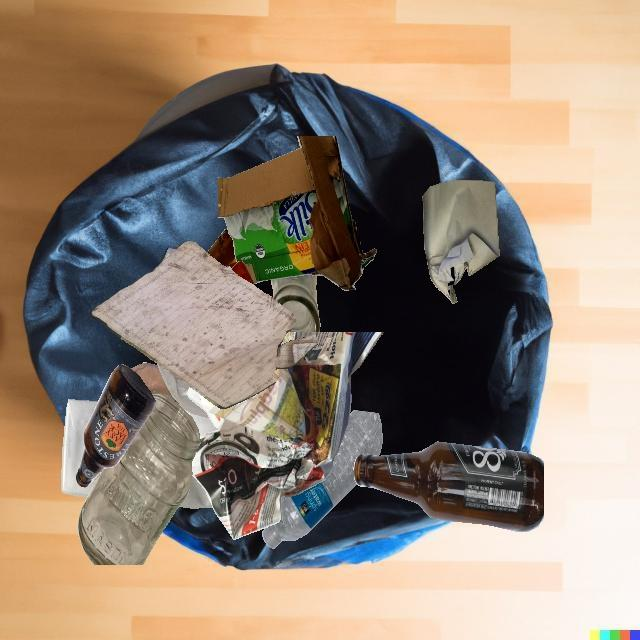cardboard: (218, 136, 377, 290)
glass: (78, 392, 200, 565), (354, 441, 544, 532), (76, 364, 155, 487), (271, 274, 320, 332), (207, 227, 237, 269)
paper: (187, 332, 383, 540), (90, 241, 318, 409), (422, 180, 499, 304), (89, 411, 217, 475), (61, 407, 98, 498), (130, 362, 183, 408)
plastic: (262, 410, 382, 549), (157, 363, 210, 419), (231, 261, 254, 285)
